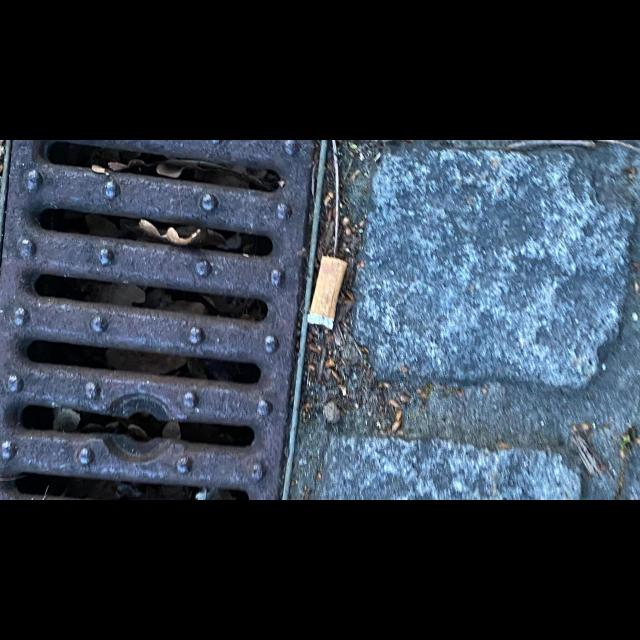cigarette: (306, 255, 348, 331)
